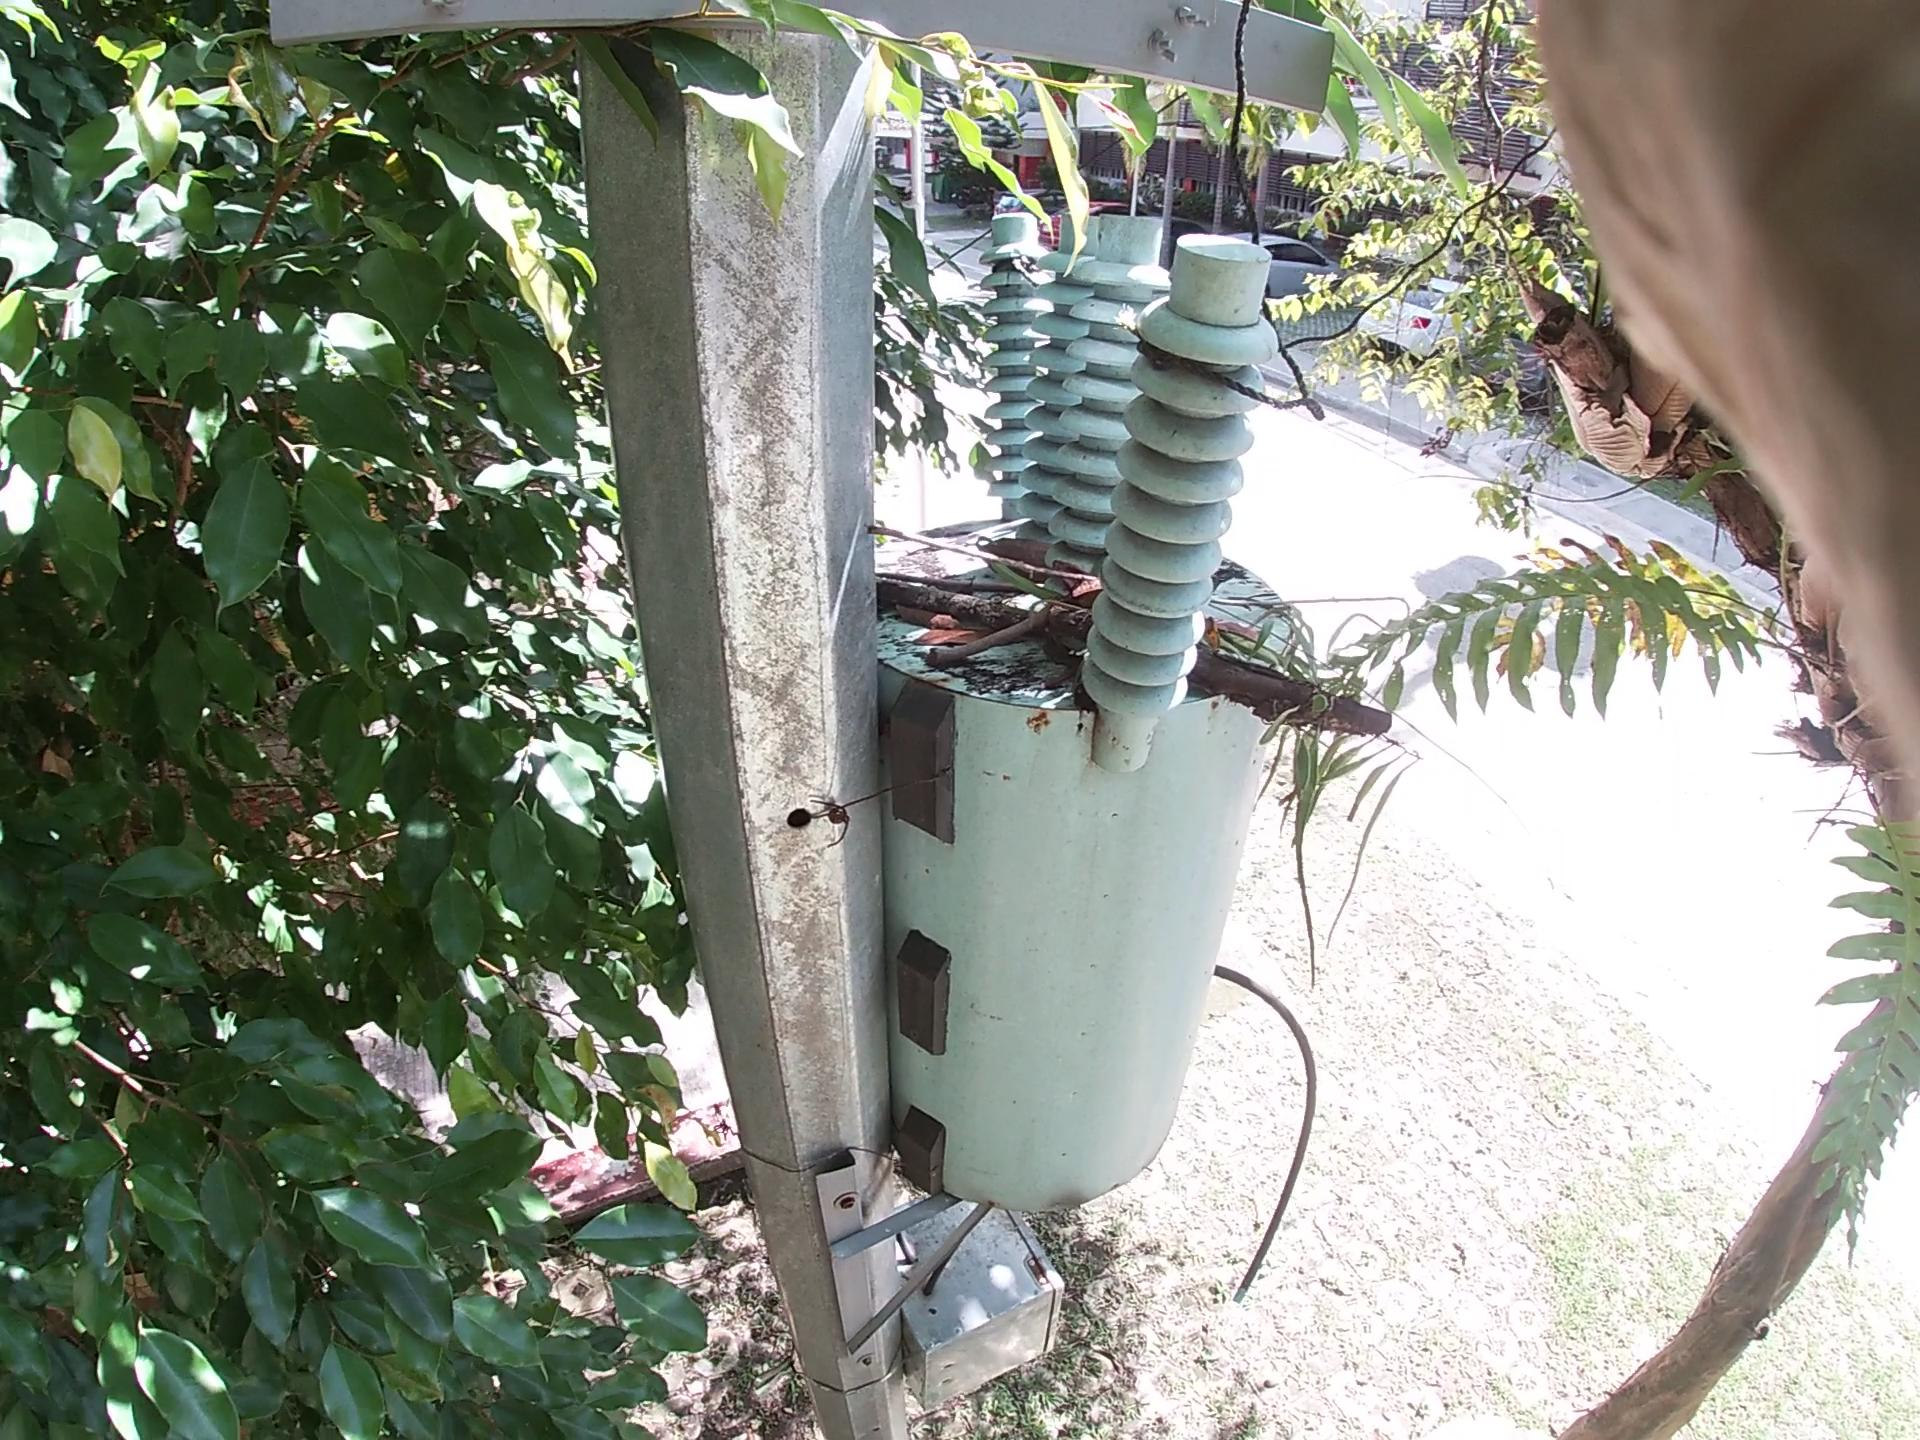branch with leaves: (878, 585, 1474, 740)
leaf: (915, 575, 1025, 684)
mahogany fruit: (1023, 540, 1120, 622)
tree branch: (857, 511, 1157, 597), (918, 495, 1043, 591)
